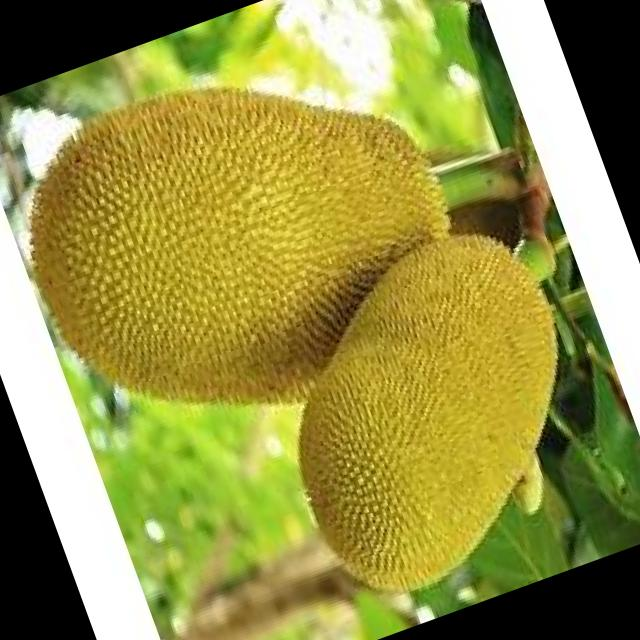Fruit: (0, 0, 507, 498), (212, 187, 640, 638)
